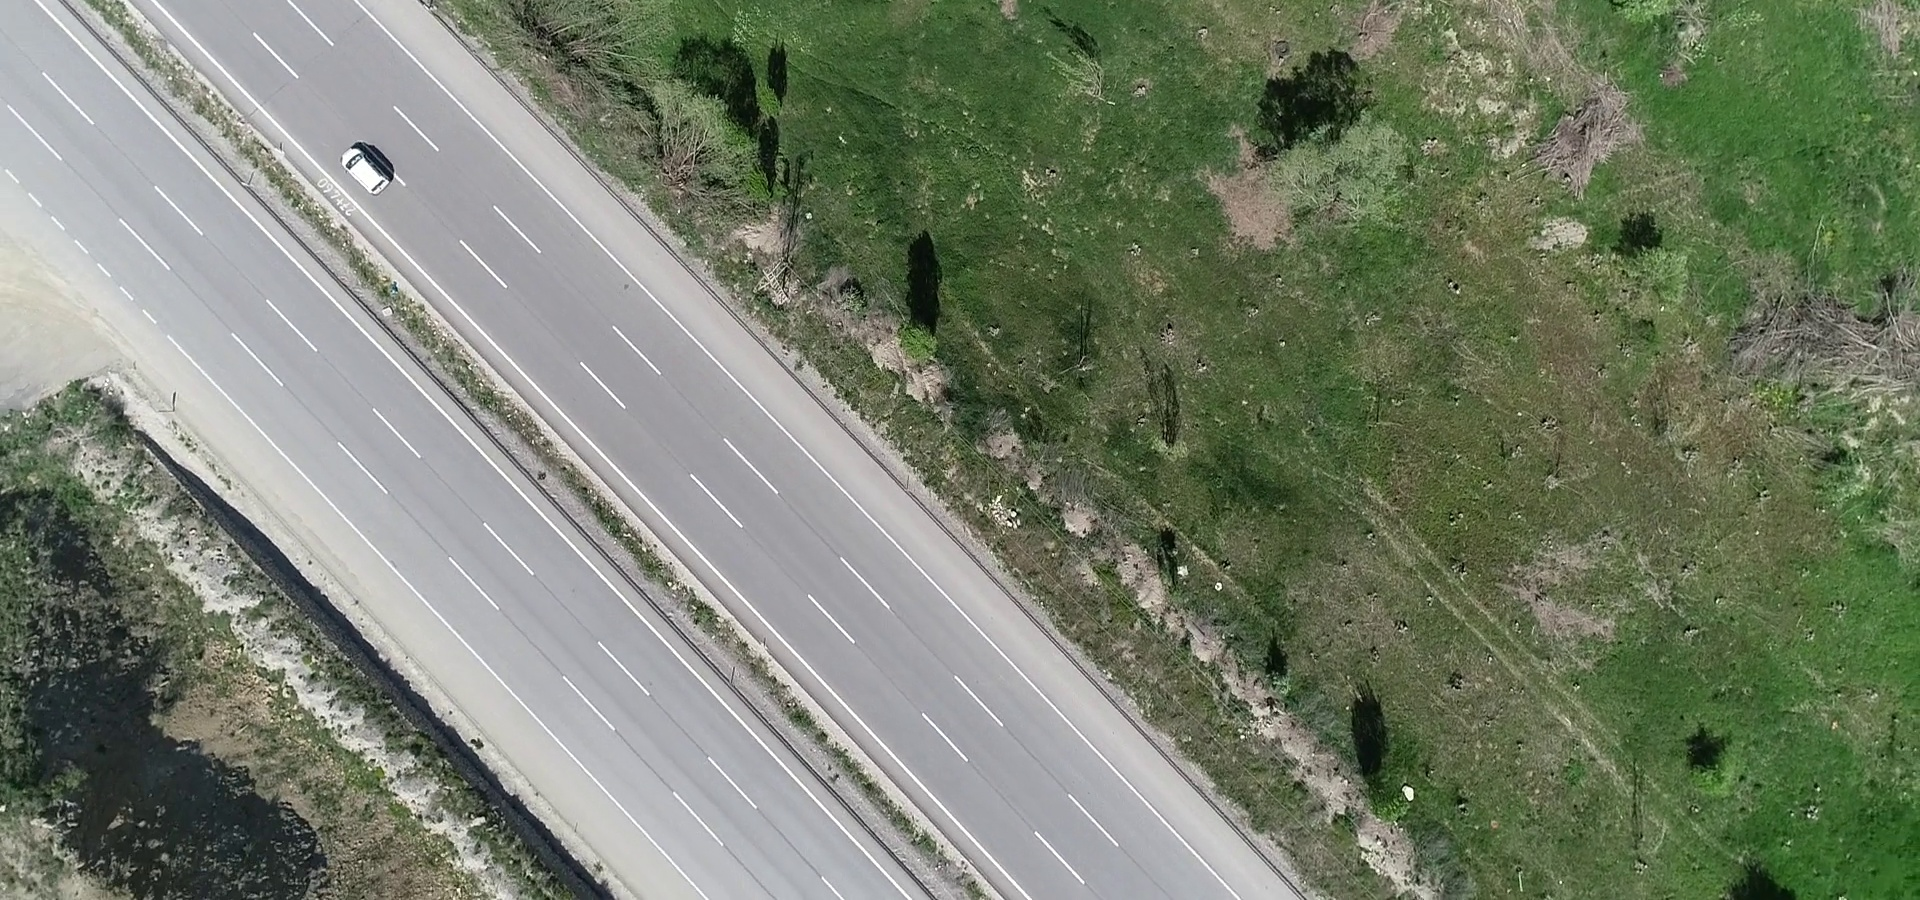arac: (332, 131, 400, 197)
